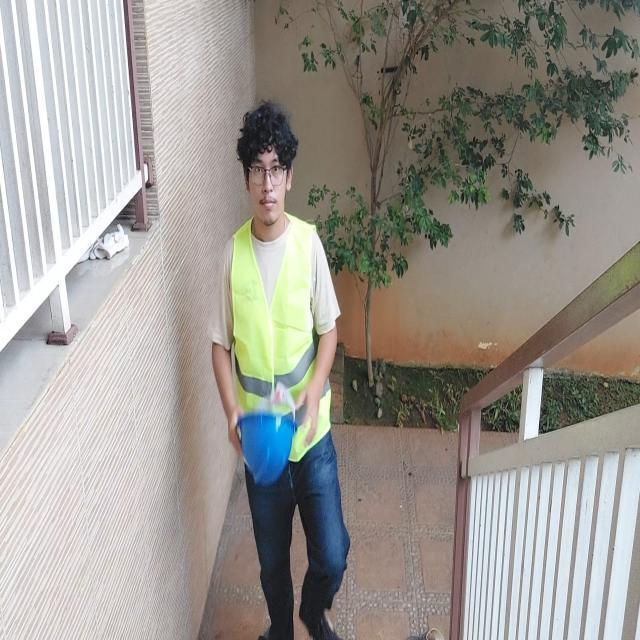Colete: (231, 214, 316, 411)
